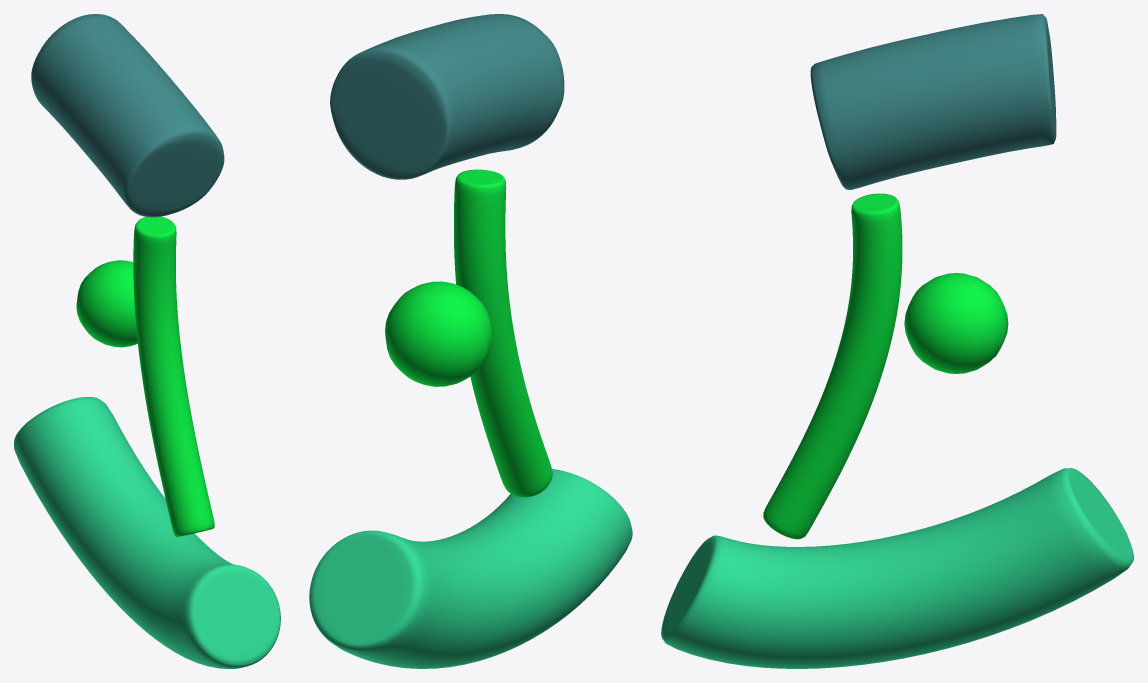
Rendered from E0 comp.glb.
3 views of the same model, side by side, from view 1: azimuth 30°, elevation 25°; view 2: azimuth 150°, elevation 25°; view 3: azimuth 270°, elevation 25° (orthographic). The views are drawn at different scales.
Visible parts, largest first — view 1: E; view 2: E; view 3: E.
Part boxes in pixels (x1,y1,x2,y2): E: [14, 14, 280, 668]; E: [309, 14, 632, 668]; E: [661, 14, 1133, 668].
Size of the model in its own units: 0.2174 by 1.17 by 0.7787.
Materials: 1 (1 with a texture image).
